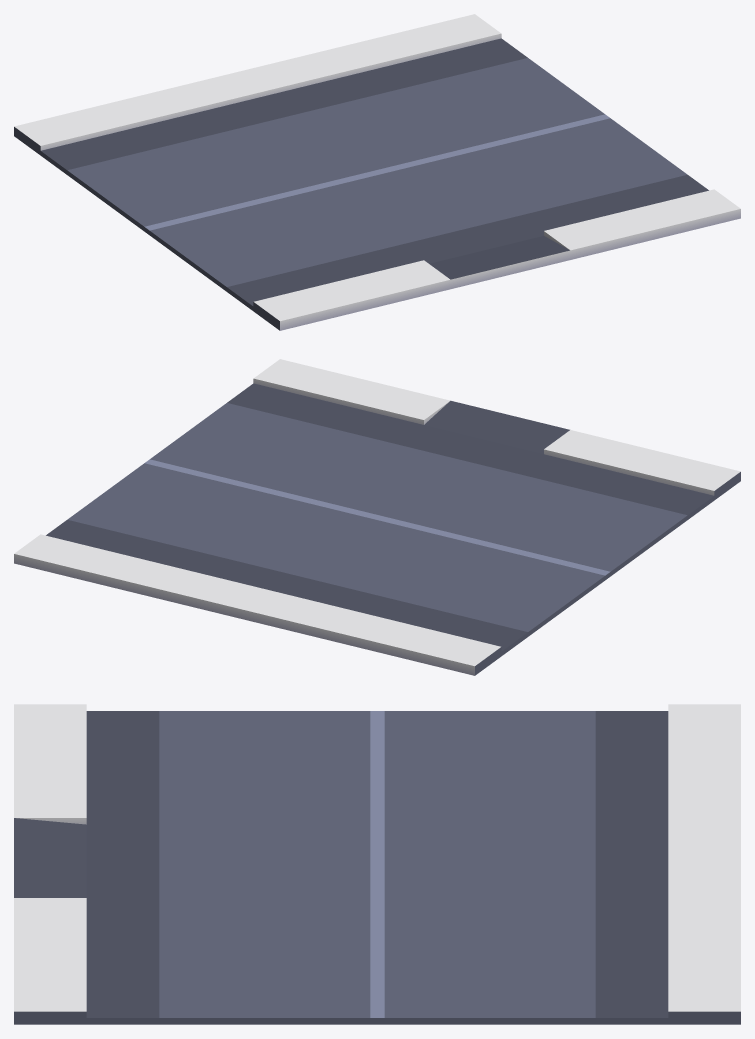
The model's file is road-driveway-single.gltf.
The picture shows the model from 3 angles, top to bottom: view 1: azimuth 30°, elevation 25°; view 2: azimuth 150°, elevation 25°; view 3: azimuth 270°, elevation 25°; orthographic projection. The views are drawn at different scales.
Visible parts, largest first — view 1: road-driveway-single; view 2: road-driveway-single; view 3: road-driveway-single.
Part boxes in pixels (x1=…): road-driveway-single: x1=14, y1=14, x2=740, y2=330; road-driveway-single: x1=14, y1=359, x2=740, y2=675; road-driveway-single: x1=14, y1=704, x2=740, y2=1024.
Size of the model in its own units: 1 by 0.02 by 1.
1 material, 1 textured.
